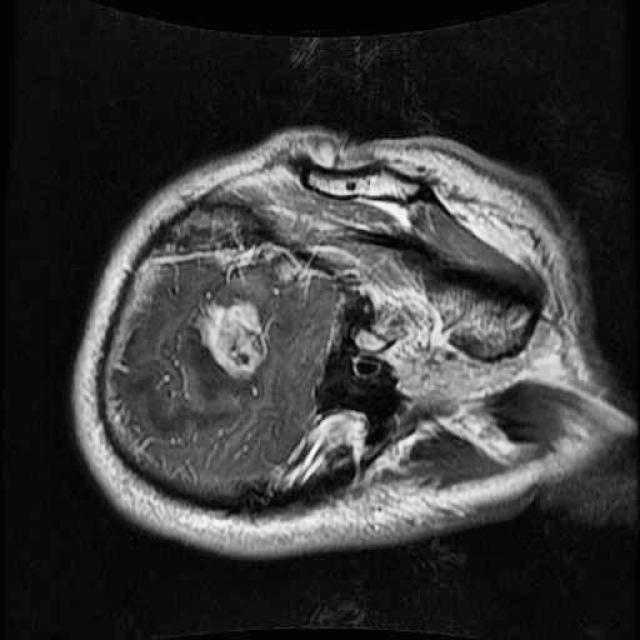Non-Tumor: (186, 282, 278, 394)
